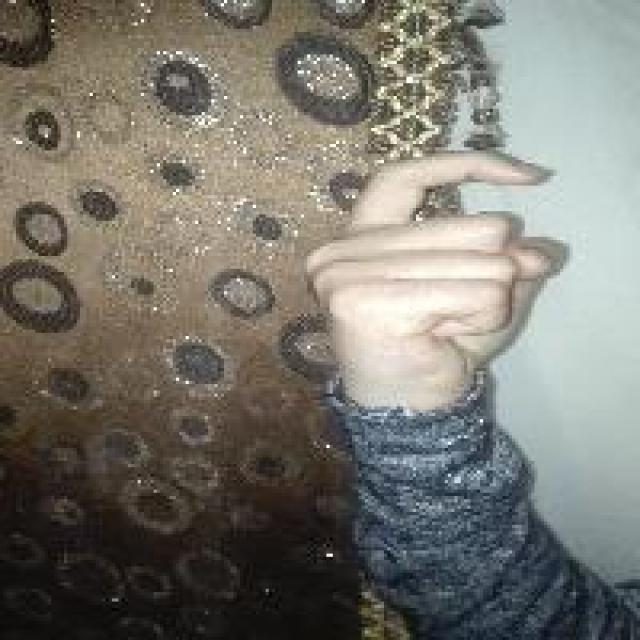X: (291, 144, 560, 410)
